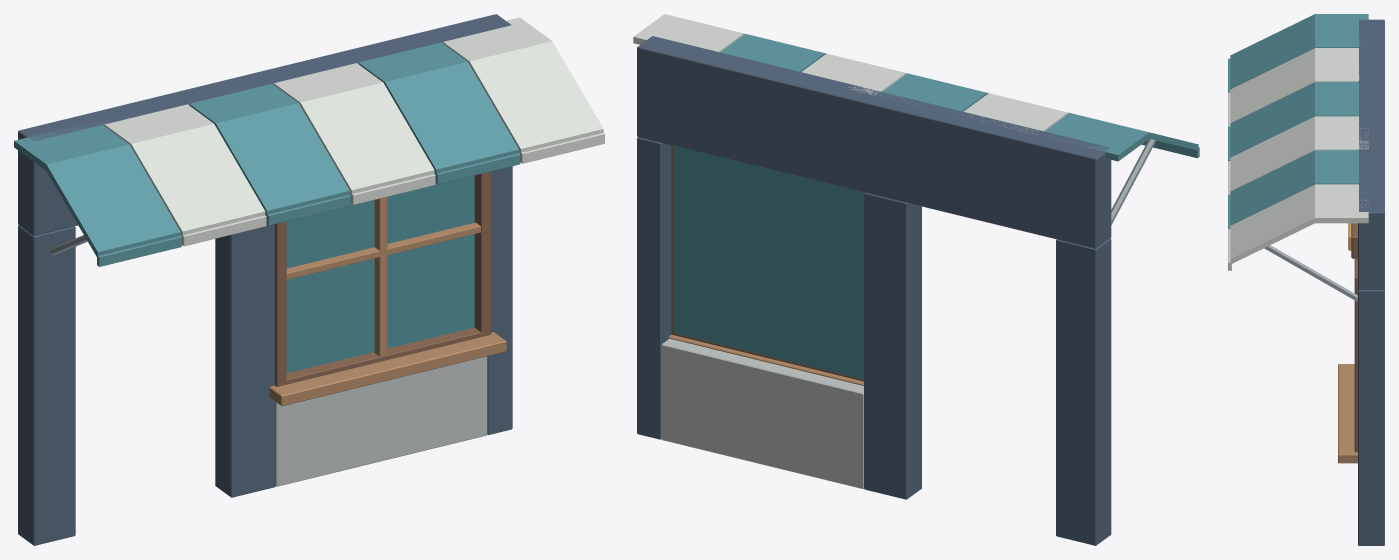
Rendered from shopfront_small.glb.
3 views of the same model, side by side, from view 1: azimuth 30°, elevation 25°; view 2: azimuth 150°, elevation 25°; view 3: azimuth 270°, elevation 25° (orthographic). The views are drawn at different scales.
Parts seen in each view (by area): view 1: shopfront_small_window_glass, shopfront_small_post_0, shopfront_small_window_base, shopfront_small_post_1, shopfront_small_awning_panel_0, shopfront_small_awning_panel_5, shopfront_small_awning_panel_1, shopfront_small_awning_panel_4, shopfront_small_awning_panel_3, shopfront_small_awning_panel_2, shopfront_small_header, shopfront_small_post_2 (+12 smaller); view 2: shopfront_small_header, shopfront_small_window_glass, shopfront_small_window_base, shopfront_small_post_1, shopfront_small_post_0, shopfront_small_post_2, shopfront_small_awning_panel_0, shopfront_small_awning_panel_5, shopfront_small_awning_panel_2, shopfront_small_awning_panel_3, shopfront_small_awning_panel_1, shopfront_small_awning_panel_4 (+2 smaller); view 3: shopfront_small_header, shopfront_small_post_2, shopfront_small_awning_panel_5, shopfront_small_awning_panel_3, shopfront_small_awning_panel_0, shopfront_small_awning_panel_1, shopfront_small_awning_panel_2, shopfront_small_awning_panel_4, shopfront_small_sill, shopfront_small_awning_brace_right, shopfront_small_window_stile_1, shopfront_small_sign_back.
Part boxes in pixels (x1,y1,x2,y2): shopfront_small_window_glass: (286, 175, 474, 372); shopfront_small_post_0: (18, 225, 75, 545); shopfront_small_window_base: (276, 356, 487, 486); shopfront_small_post_1: (215, 215, 275, 497); shopfront_small_awning_panel_0: (14, 122, 180, 258); shopfront_small_awning_panel_5: (443, 17, 603, 155); shopfront_small_awning_panel_1: (103, 104, 265, 237); shopfront_small_awning_panel_4: (358, 42, 519, 175); shopfront_small_awning_panel_3: (274, 63, 434, 196); shopfront_small_awning_panel_2: (189, 84, 349, 215); shopfront_small_header: (18, 14, 511, 235); shopfront_small_post_2: (487, 166, 512, 434); shopfront_small_header: (637, 36, 1111, 248); shopfront_small_window_glass: (673, 146, 864, 379); shopfront_small_window_base: (661, 338, 863, 488); shopfront_small_post_1: (864, 192, 921, 499); shopfront_small_post_0: (1056, 238, 1111, 545); shopfront_small_post_2: (637, 137, 671, 439); shopfront_small_awning_panel_0: (1045, 113, 1198, 161); shopfront_small_awning_panel_5: (633, 14, 745, 52); shopfront_small_awning_panel_2: (878, 73, 988, 113); shopfront_small_awning_panel_3: (801, 53, 907, 94); shopfront_small_awning_panel_1: (962, 93, 1069, 134); shopfront_small_awning_panel_4: (720, 34, 826, 71); shopfront_small_header: (1358, 19, 1384, 289); shopfront_small_post_2: (1358, 289, 1384, 545); shopfront_small_awning_panel_5: (1230, 184, 1368, 264); shopfront_small_awning_panel_3: (1230, 116, 1368, 191); shopfront_small_awning_panel_0: (1230, 14, 1368, 89); shopfront_small_awning_panel_1: (1230, 48, 1359, 123); shopfront_small_awning_panel_2: (1230, 82, 1358, 157); shopfront_small_awning_panel_4: (1230, 150, 1358, 225); shopfront_small_sill: (1338, 364, 1357, 463); shopfront_small_awning_brace_right: (1264, 245, 1357, 301); shopfront_small_window_stile_1: (1354, 279, 1357, 452); shopfront_small_sign_back: (1351, 223, 1357, 258).
Size of the model in its own units: 3.59 by 2.74 by 1.17.
